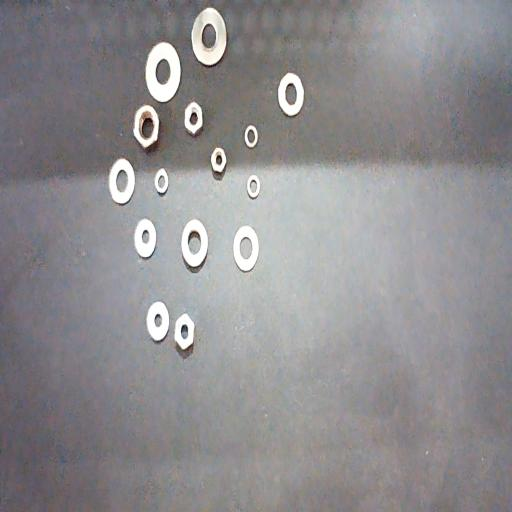nut: (132, 104, 160, 150), (174, 313, 195, 351), (184, 100, 203, 136), (210, 147, 227, 175)
washer: (144, 40, 181, 102), (192, 6, 228, 66), (181, 218, 208, 268), (108, 157, 136, 205), (232, 224, 259, 272), (277, 72, 304, 117), (146, 300, 170, 342), (134, 218, 157, 259), (246, 174, 261, 200), (154, 167, 168, 194), (244, 124, 258, 148)
